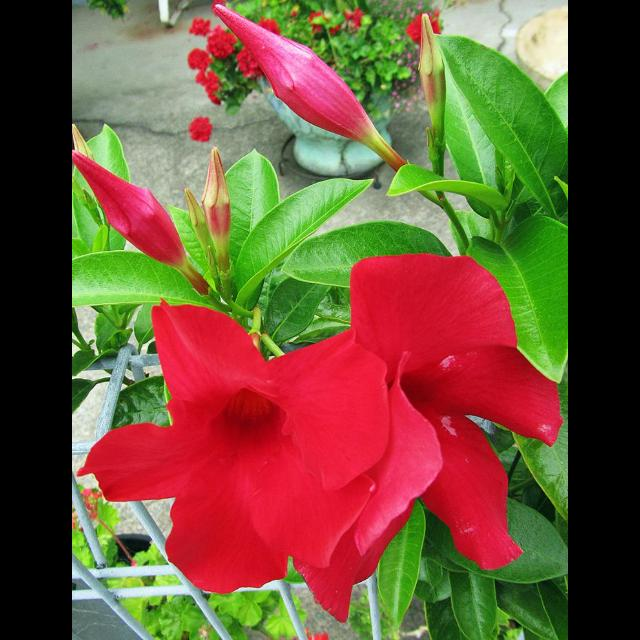Flower: (78, 300, 384, 622), (305, 248, 563, 624), (72, 151, 186, 267), (310, 11, 368, 34), (237, 37, 265, 77), (194, 67, 223, 105), (406, 14, 442, 42), (209, 25, 235, 61), (190, 118, 218, 140), (186, 47, 208, 71), (260, 16, 284, 38), (188, 12, 206, 38)
